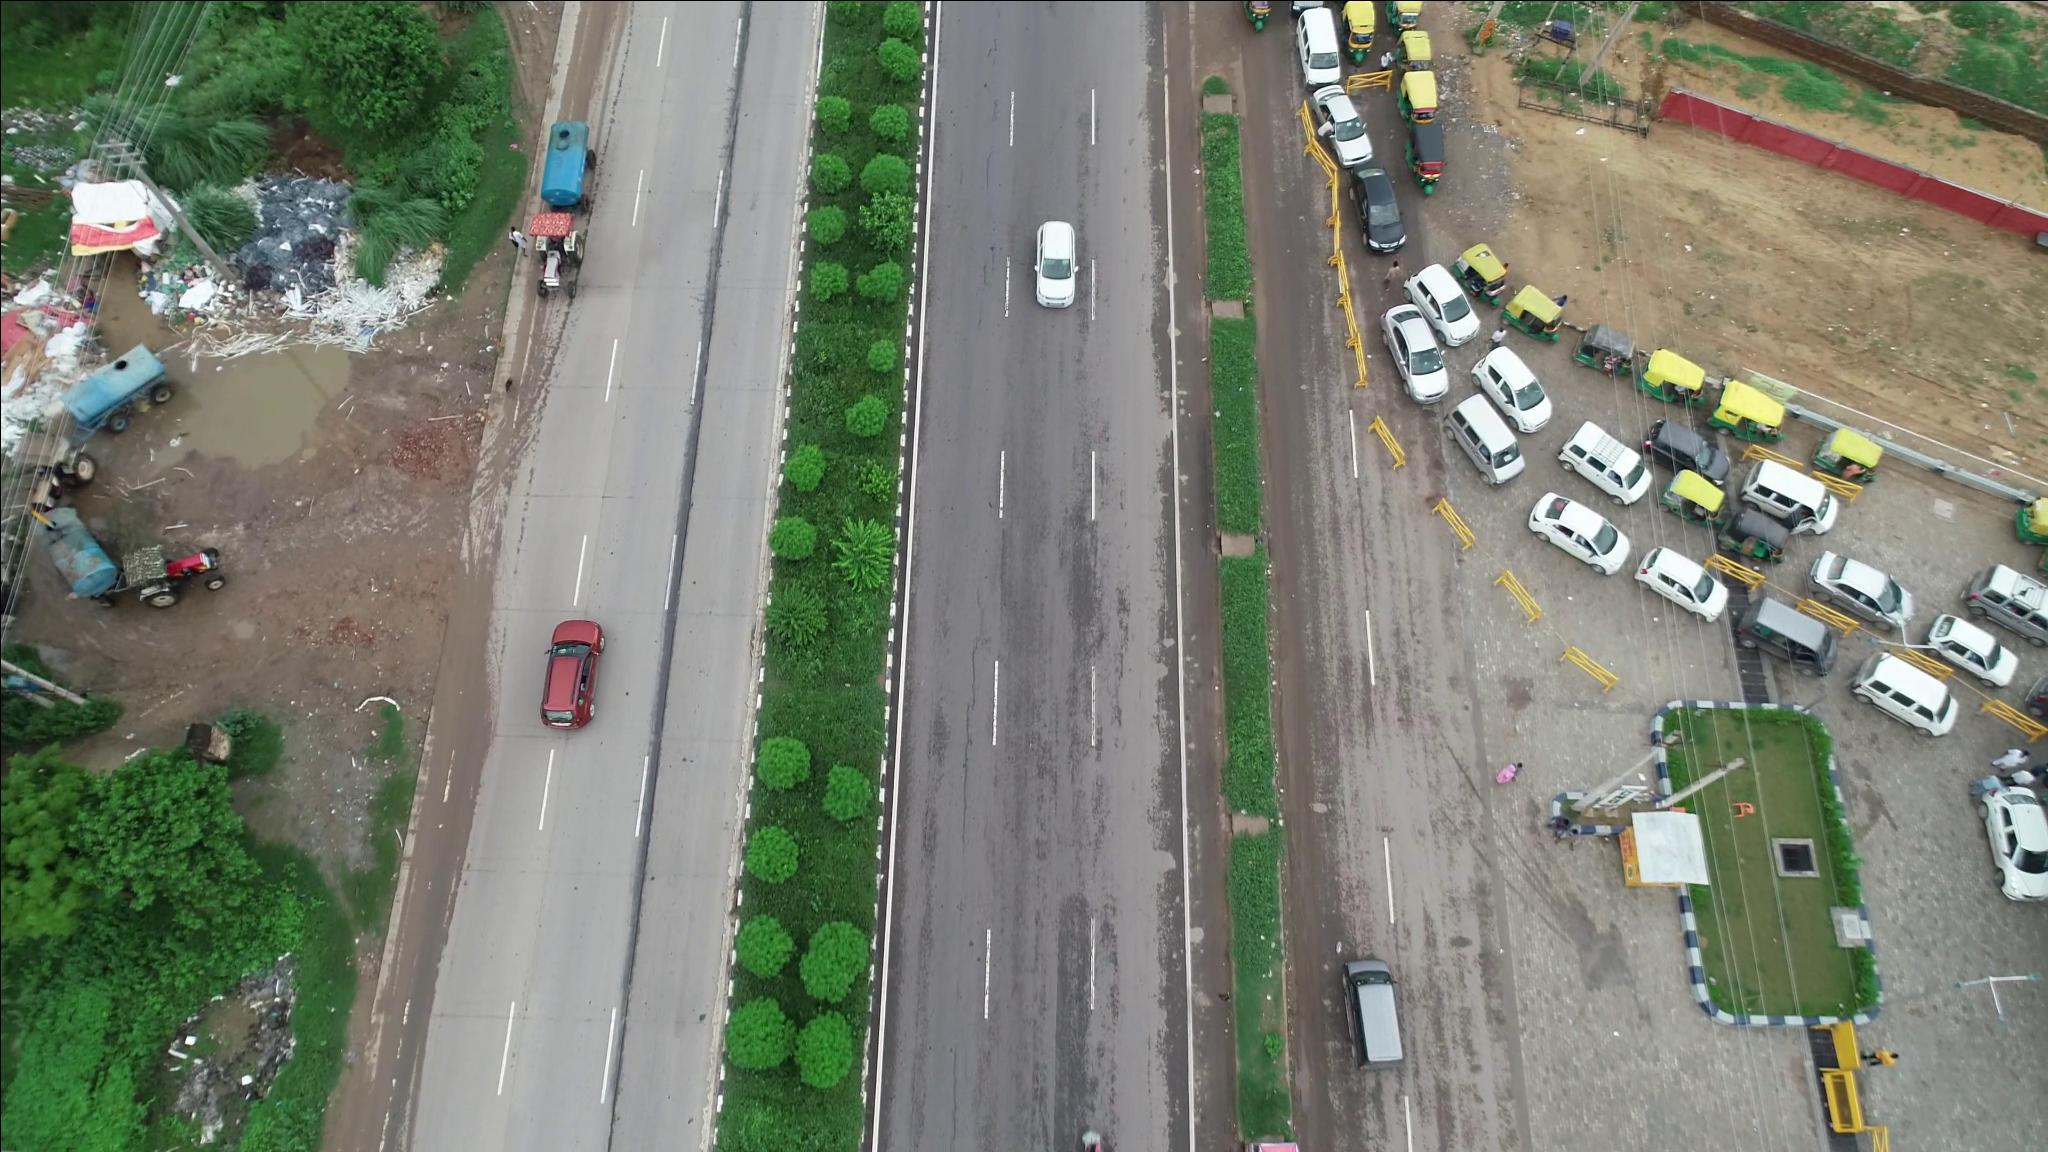Cracks: (949, 595, 996, 843)
